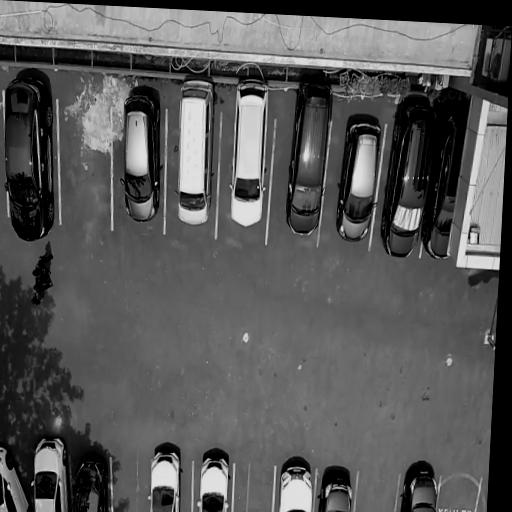Car: (373, 85, 443, 272), (278, 68, 342, 244), (0, 70, 62, 250), (423, 91, 475, 275), (326, 111, 389, 254), (223, 76, 277, 235), (169, 73, 220, 234), (117, 88, 171, 228), (27, 430, 72, 512), (145, 443, 187, 512), (69, 446, 112, 512), (192, 446, 235, 512), (275, 450, 316, 512), (0, 442, 33, 512), (400, 461, 443, 512), (318, 457, 357, 512)
Space Available: (61, 88, 116, 238), (112, 441, 148, 512), (232, 457, 275, 512), (353, 468, 399, 512), (436, 473, 481, 512)
